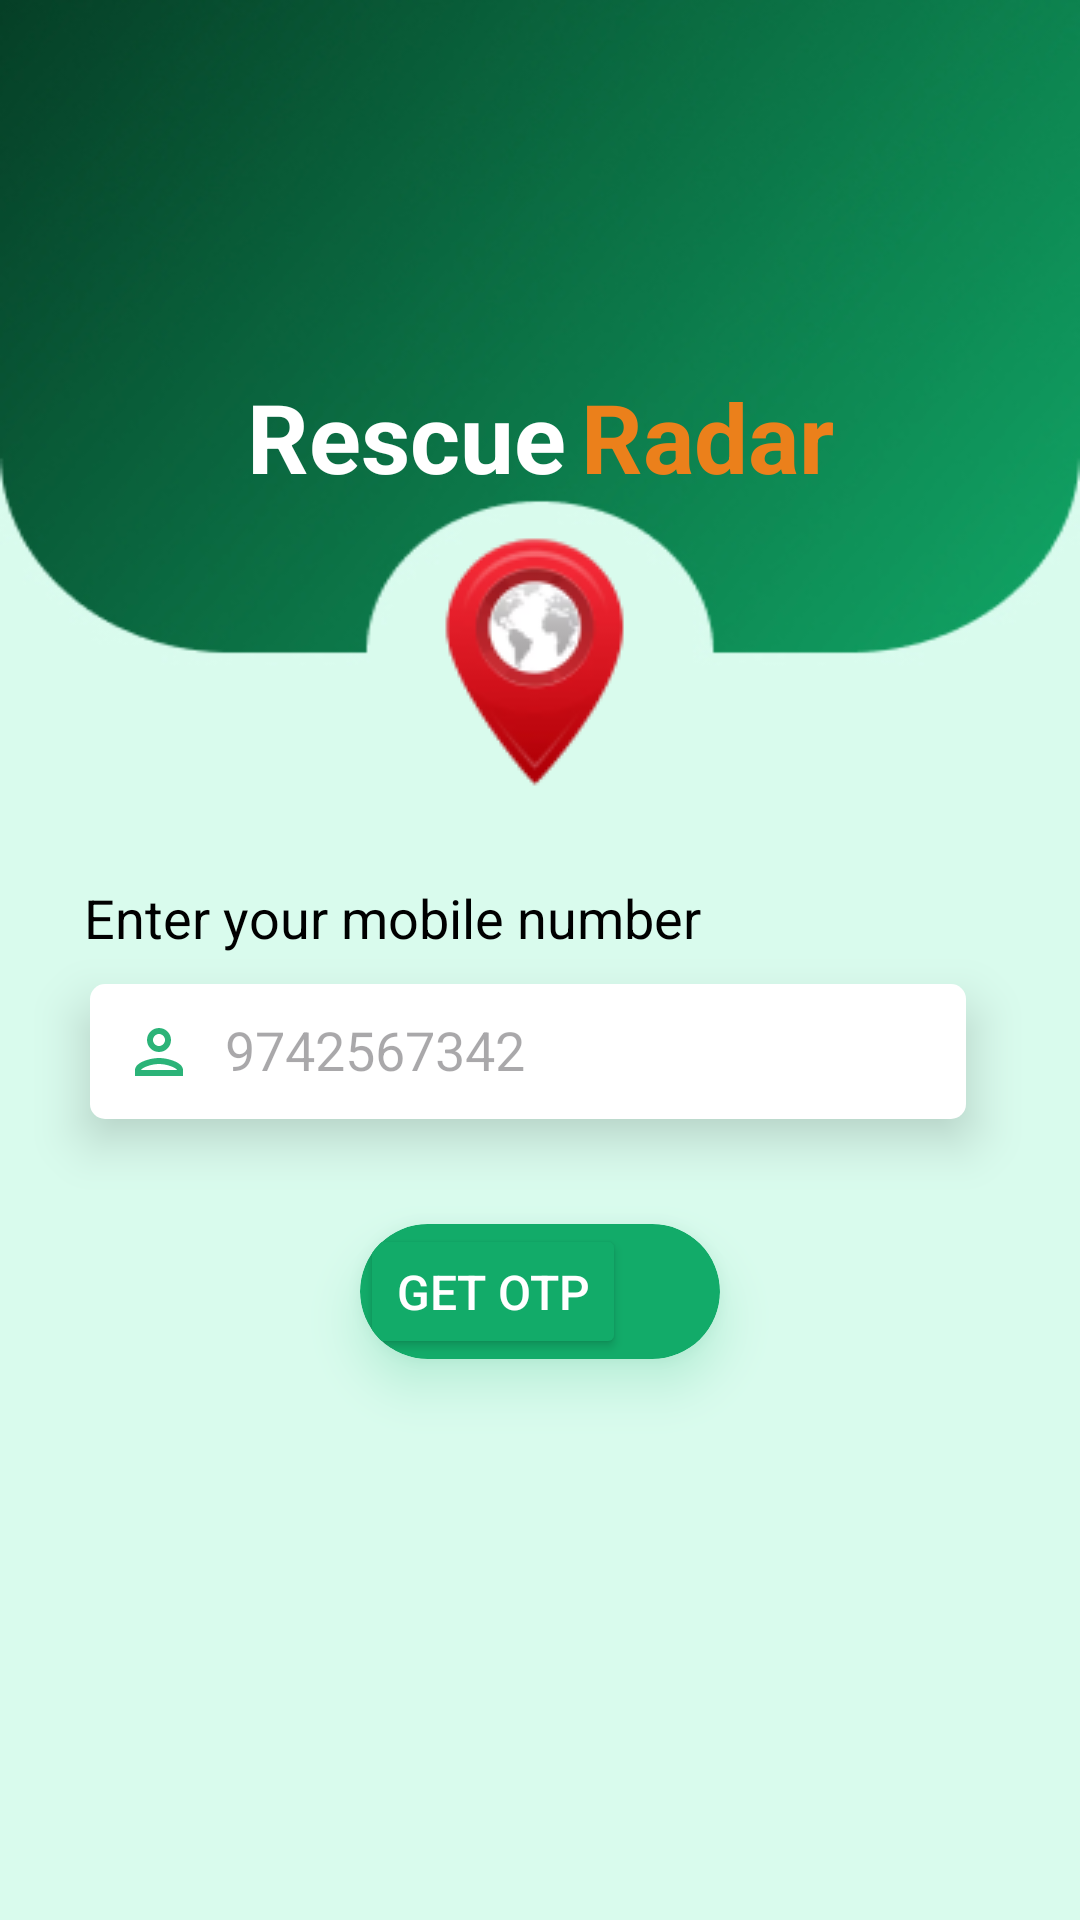

Where to tap for icons on this 1080*1920 app screen, as [x,y]:
locimage: [534,662]
